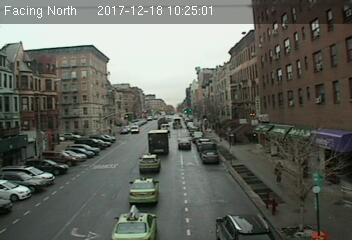car: (213, 211, 272, 240), (112, 208, 160, 240), (127, 176, 160, 205), (139, 154, 160, 170), (200, 150, 218, 164), (176, 138, 192, 151)
pedestrian: (275, 161, 282, 185)
ups: (147, 130, 169, 154)
